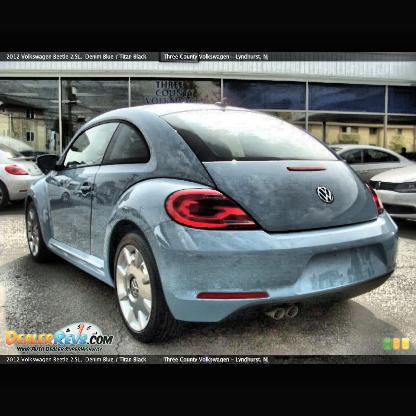Volkswagen Beetle Hatchback 2012: (25, 97, 404, 345)
